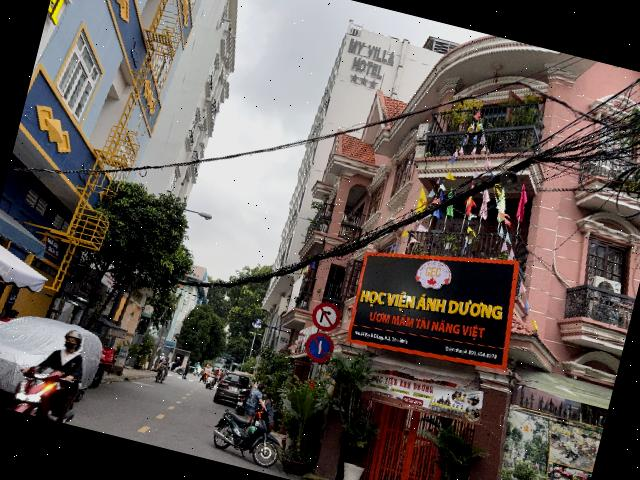cam-do-xe-ngay-le: (302, 330, 336, 366)
cam-re-phai: (308, 300, 342, 334)
